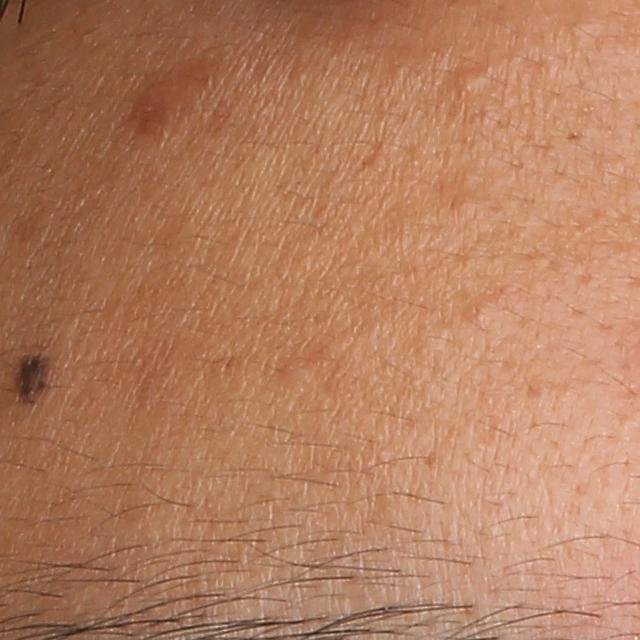comedo: (461, 296, 495, 327), (454, 66, 483, 95)
nevus: (13, 352, 55, 404)
